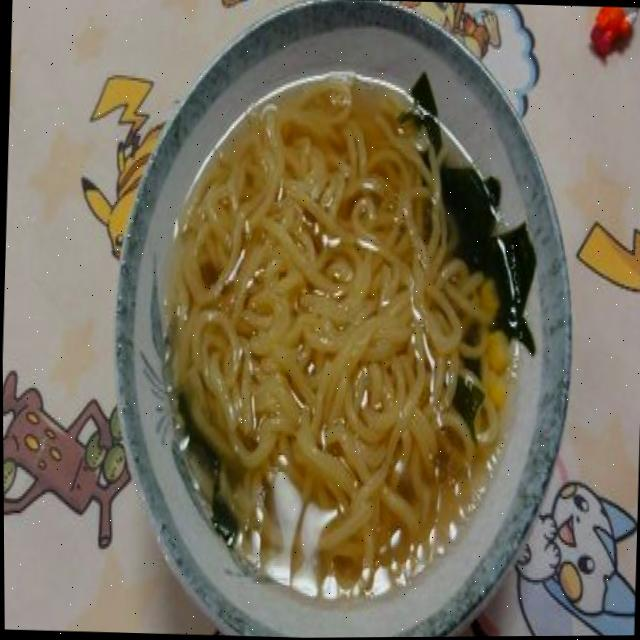面条主食: (95, 0, 583, 639)
